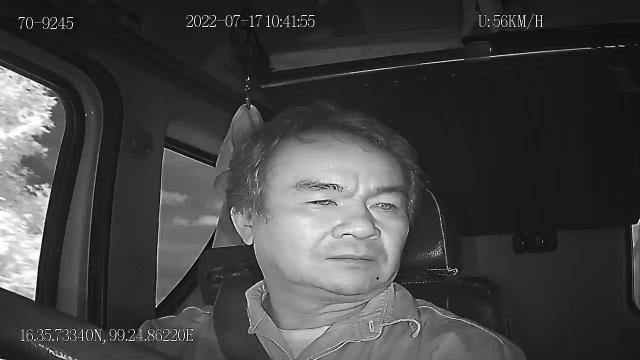SafeDriving: (292, 187, 346, 213), (361, 188, 407, 218)
Seatbelt: (212, 272, 272, 360)
